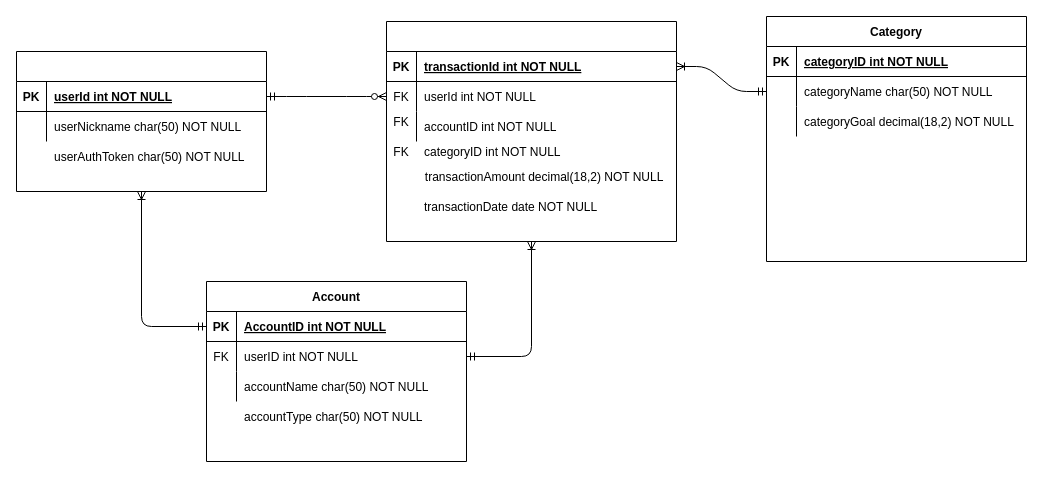
This 1043x478 diagram has some shape labels left out. Here are the shapes that lost their labels. From the top down, the box of each, then its label:
(16, 50, 266, 192): Users
(386, 20, 676, 242): Transactions
